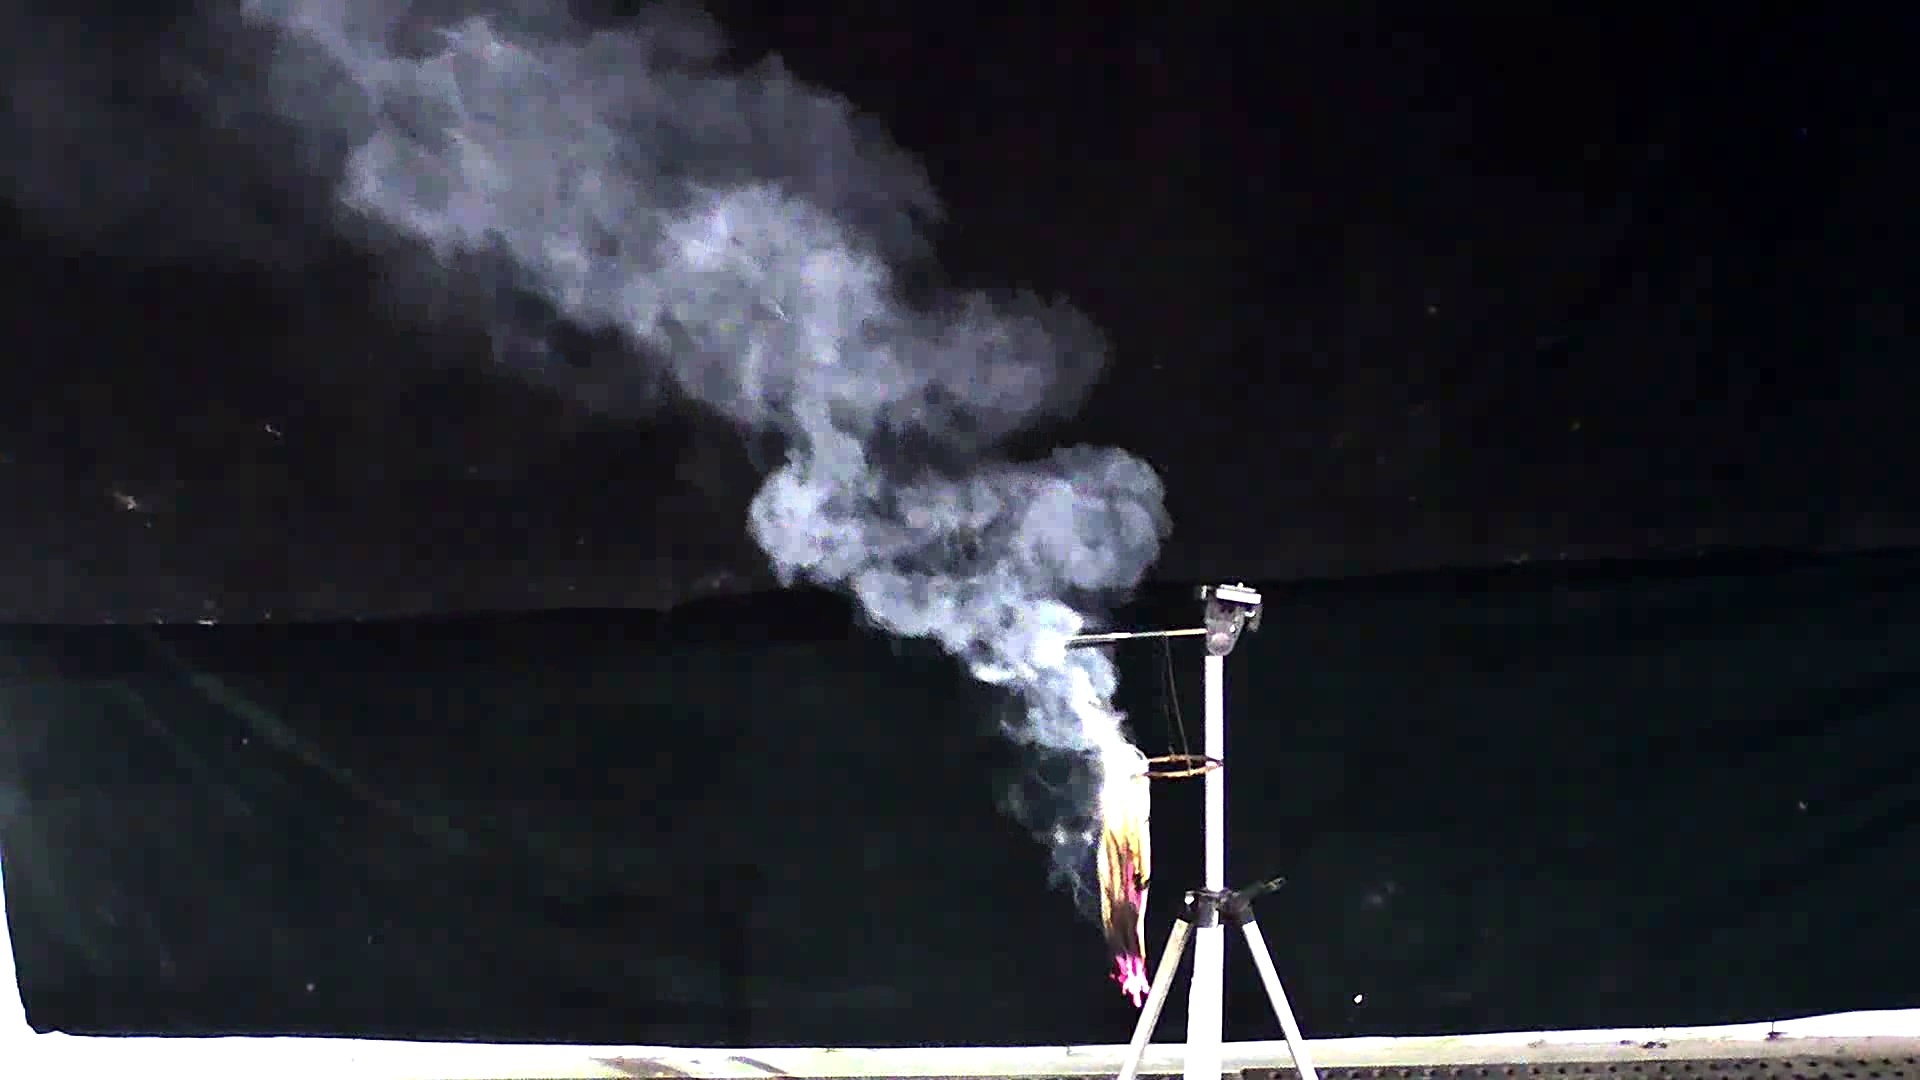smoke: (316, 30, 1158, 766)
